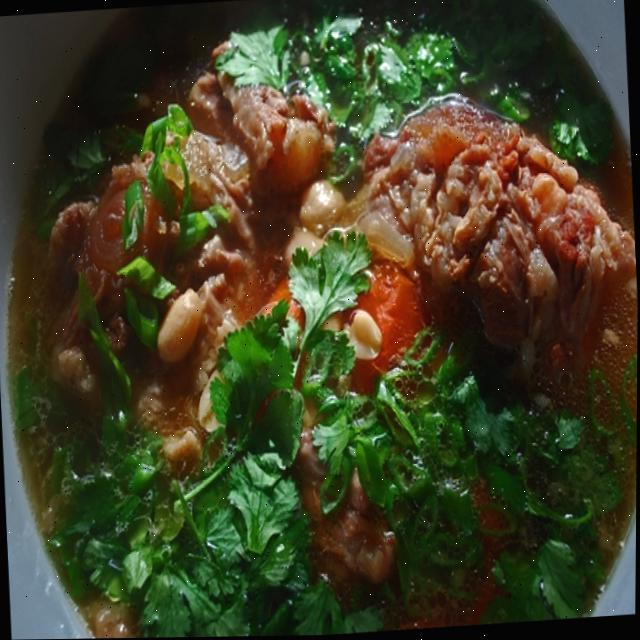汤锅炖物: (0, 0, 640, 633)
